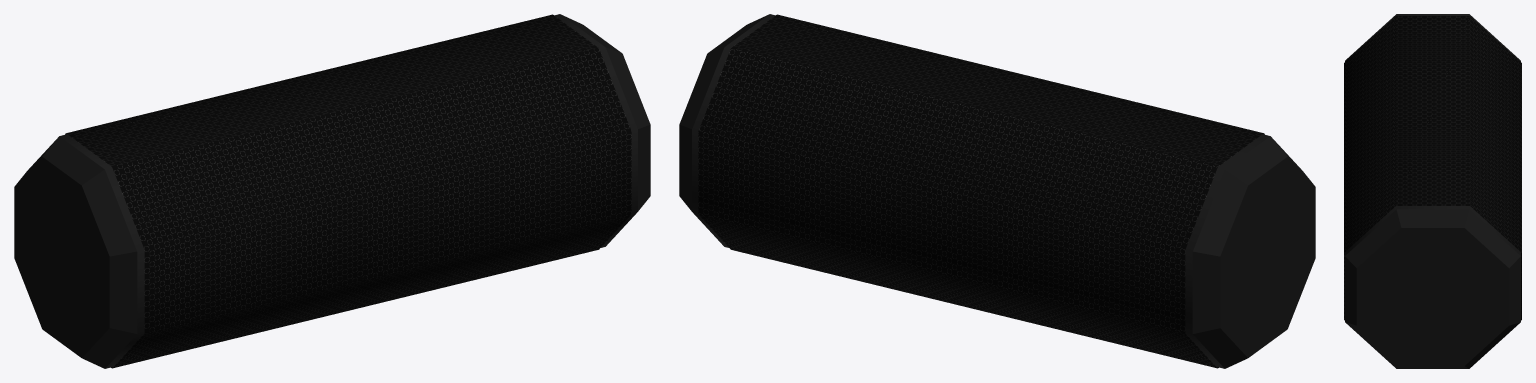
Rendered from Itr_Obj_Speaker5_02.FBX.
3 views of the same model, side by side, from view 1: azimuth 30°, elevation 25°; view 2: azimuth 150°, elevation 25°; view 3: azimuth 270°, elevation 25° (orthographic). The views are drawn at different scales.
Parts seen in each view (by area): view 1: Itr_Obj_Speaker5_02; view 2: Itr_Obj_Speaker5_02; view 3: Itr_Obj_Speaker5_02.
Boxes of the visible parts, x1,y1,x2,y2 form: Itr_Obj_Speaker5_02: (14, 14, 650, 368); Itr_Obj_Speaker5_02: (679, 14, 1315, 368); Itr_Obj_Speaker5_02: (1344, 14, 1521, 368).
Bounding box in the file's own units: 22.7 × 8.08 × 8.08.
